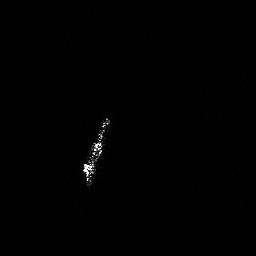ship: (81, 115, 111, 193)
